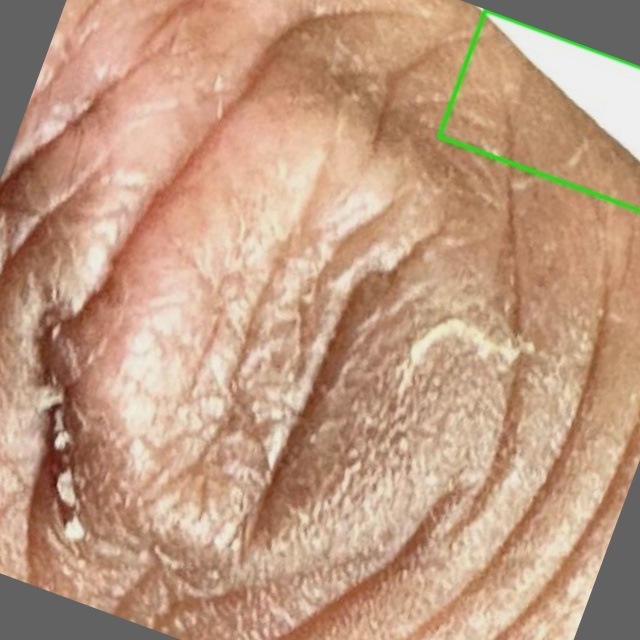Contact Dermatitis: (439, 9, 639, 210)
